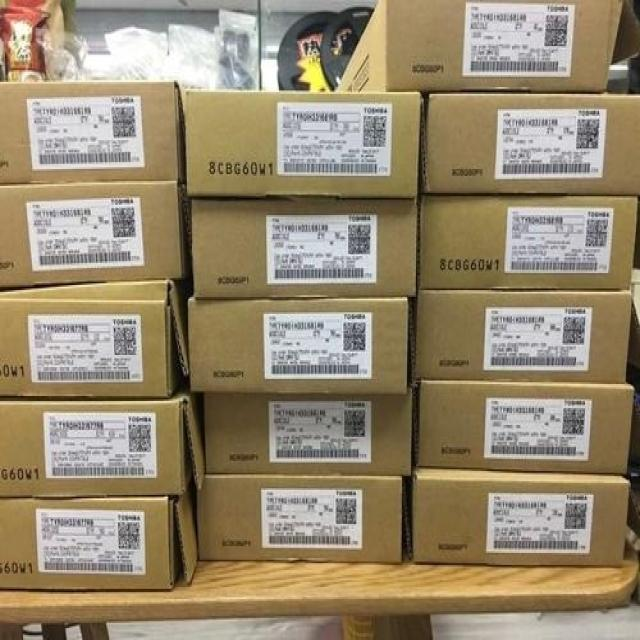box: (334, 1, 639, 95), (186, 90, 421, 197), (188, 197, 420, 300), (420, 93, 639, 196), (0, 282, 188, 399), (0, 390, 204, 497), (406, 469, 630, 566), (412, 289, 632, 386), (187, 298, 410, 392), (418, 196, 638, 291), (417, 380, 634, 475), (0, 183, 192, 288), (0, 80, 186, 185), (1, 491, 199, 589), (197, 476, 403, 562), (204, 393, 412, 475)
